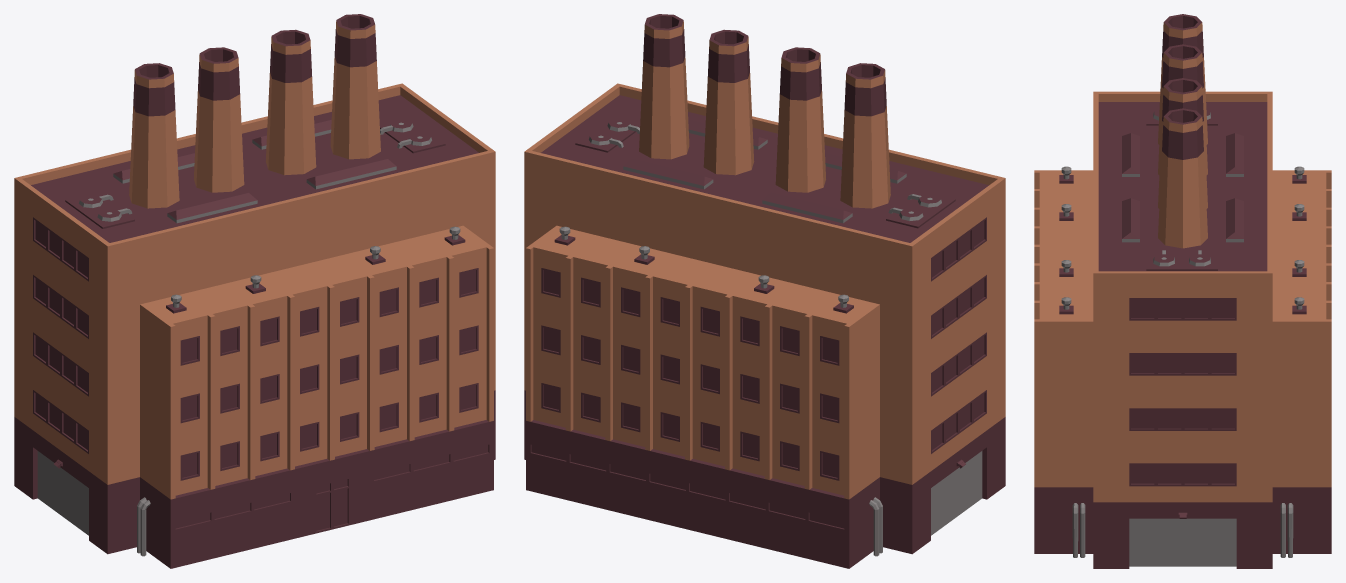
Rendered from industry-factory.fbx.
3 views of the same model, side by side, from view 1: azimuth 30°, elevation 25°; view 2: azimuth 150°, elevation 25°; view 3: azimuth 270°, elevation 25° (orthographic). The views are drawn at different scales.
Parts seen in each view (by area): view 1: industry-factory; view 2: industry-factory; view 3: industry-factory.
Part boxes in pixels (x1,y1,x2,y2): industry-factory: (14, 14, 495, 568); industry-factory: (524, 14, 1005, 568); industry-factory: (1034, 14, 1331, 568).
Bounding box in the file's own units: 24.71 × 25.21 × 16.6.
